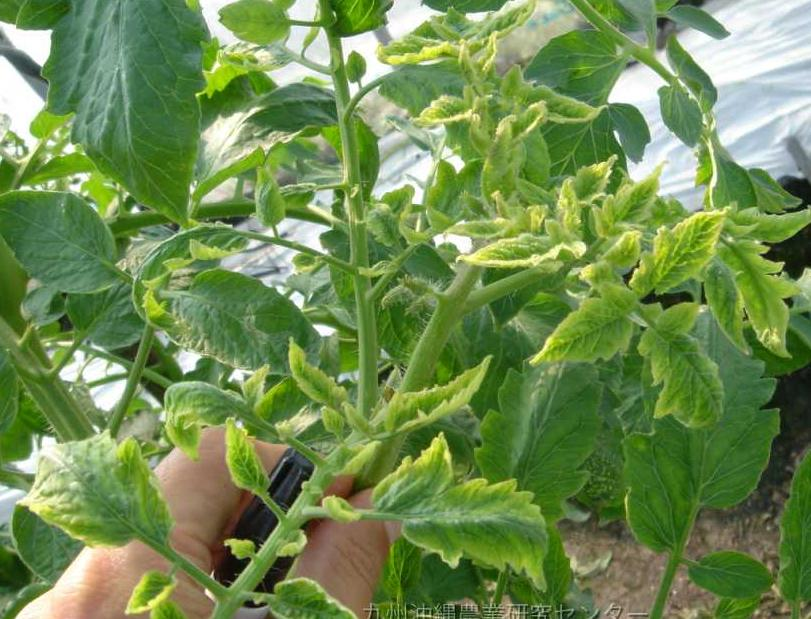Tomato leaf yellow virus: (366, 440, 576, 596), (21, 431, 197, 570), (344, 346, 501, 461), (523, 283, 649, 370), (640, 313, 725, 435), (163, 369, 295, 440), (636, 209, 730, 296), (451, 228, 572, 280), (266, 572, 362, 619), (408, 85, 480, 138)
